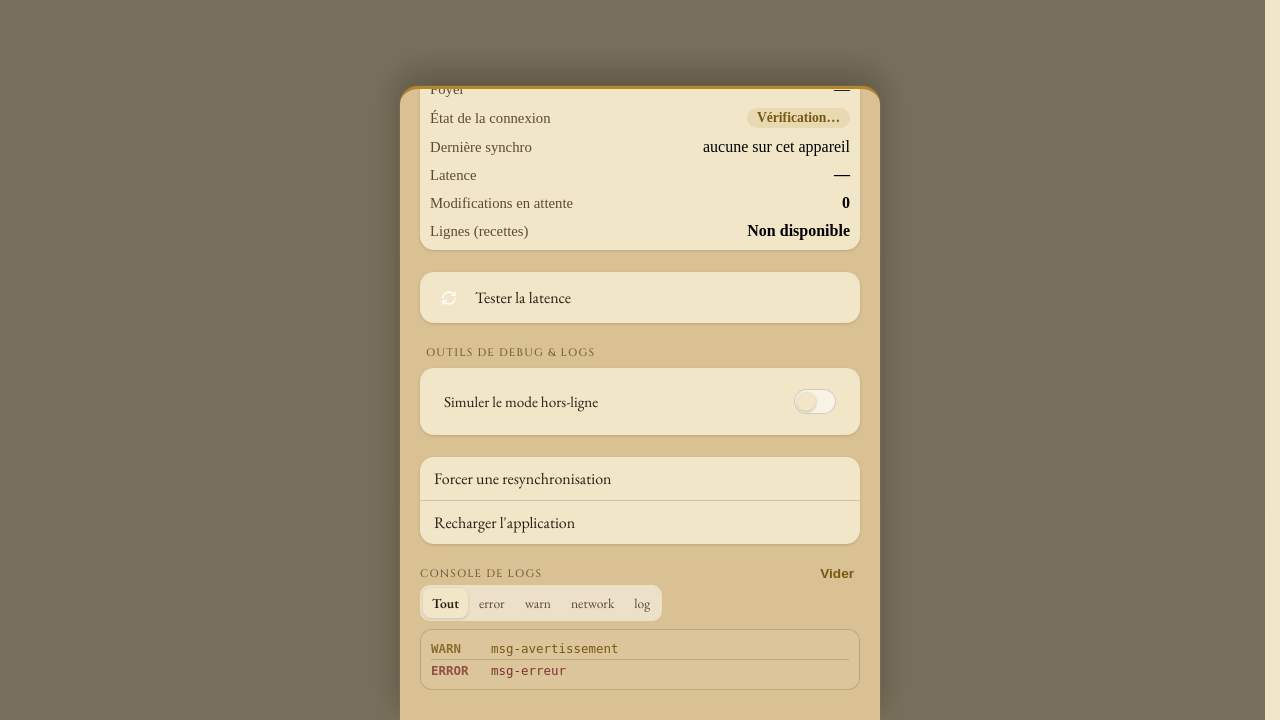
Test: Console : filtre par niveau › n'affiche que le niveau choisi, et tout avec « Tout »
(page scrolled)
Expected: the text "msg-erreur" is shown, [491, 663, 566, 678]
Expected: the text "msg-avertissement" is shown, [491, 641, 619, 656]
Click the tab "error": (492, 603) [470, 588, 514, 618]
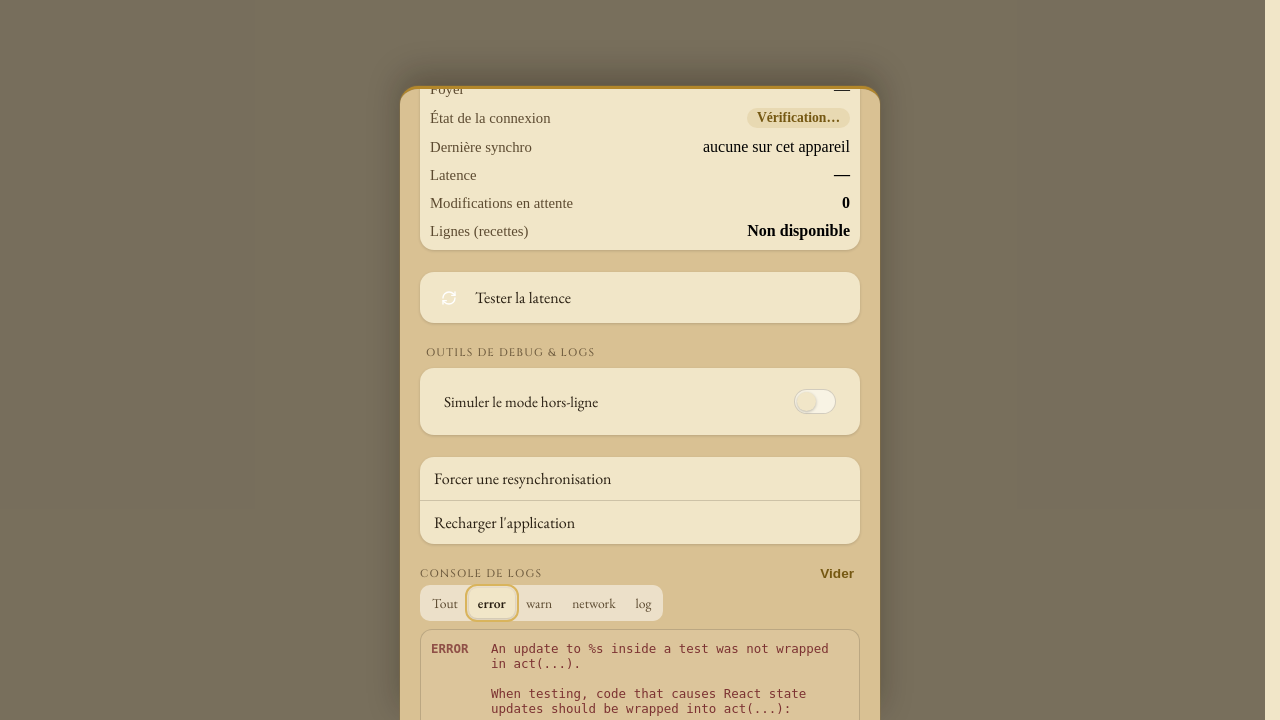
Result: the text "msg-avertissement" is gone
Click the tab "Tout": (445, 603) [423, 588, 467, 618]
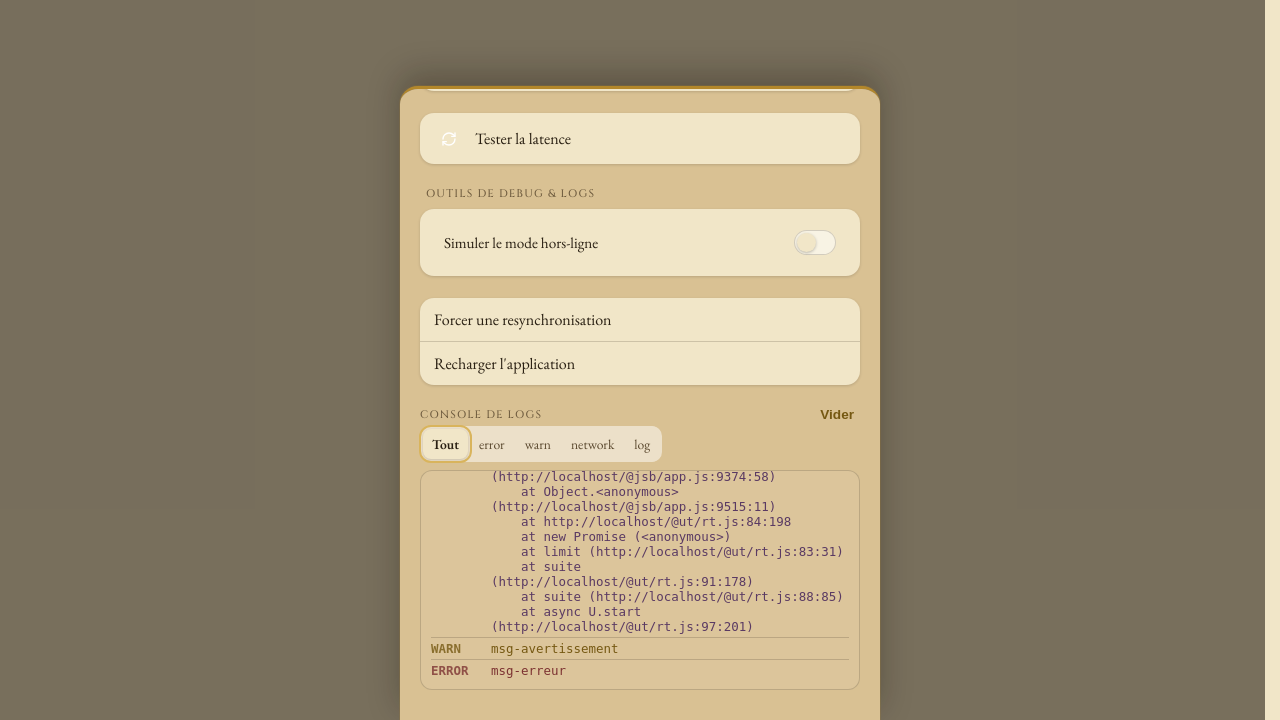
Result: the text "msg-avertissement" is shown at [491, 641, 619, 656]
